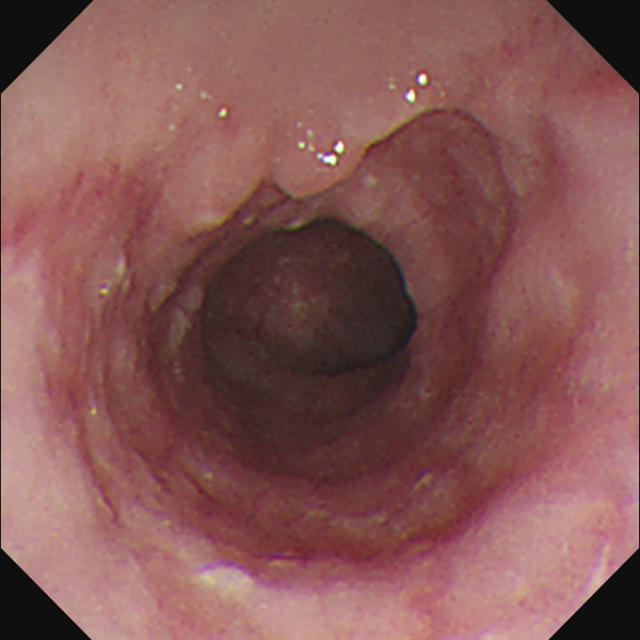A: (188, 477, 489, 568), (267, 135, 373, 211), (167, 167, 258, 231)
J: (168, 286, 205, 347)
U: (321, 141, 347, 170), (406, 90, 418, 106), (419, 72, 429, 89)
